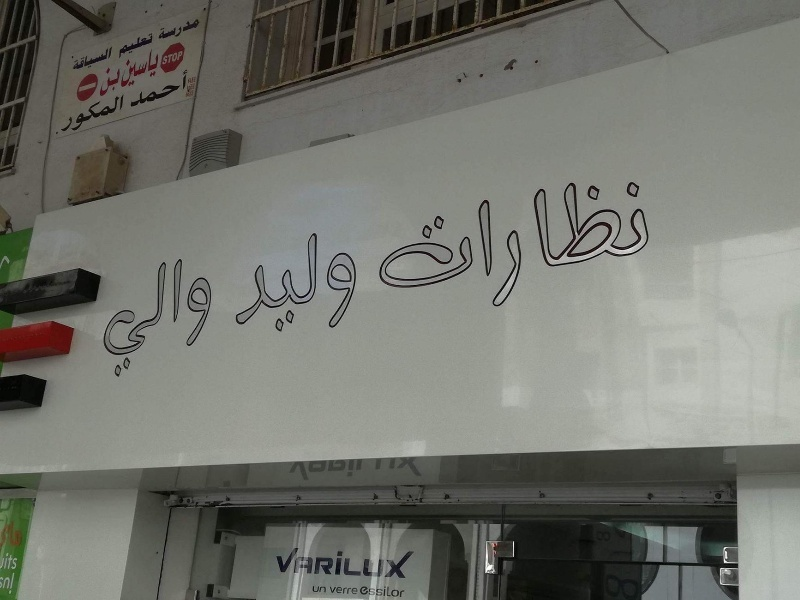text: (385, 174, 400, 323), (401, 174, 416, 323), (417, 174, 432, 323), (433, 174, 448, 323), (449, 174, 464, 323), (465, 174, 480, 323), (481, 174, 496, 323), (497, 174, 512, 323), (513, 174, 528, 323), (529, 174, 544, 323), (545, 174, 560, 323), (561, 174, 576, 323), (577, 174, 592, 323), (593, 174, 608, 323), (609, 174, 624, 323), (625, 174, 640, 323), (641, 174, 656, 323), (113, 252, 128, 379), (129, 252, 144, 379), (145, 252, 160, 379), (161, 252, 176, 379), (177, 252, 192, 379), (193, 252, 208, 379), (257, 228, 272, 339), (273, 228, 288, 339), (289, 228, 304, 339), (305, 228, 320, 339), (321, 228, 336, 339), (337, 228, 352, 339), (374, 174, 384, 323), (102, 252, 112, 379), (249, 228, 256, 339), (353, 228, 360, 339), (113, 47, 128, 98), (129, 47, 144, 98), (657, 174, 662, 323), (145, 47, 159, 98), (65, 92, 80, 136), (81, 92, 96, 136), (97, 92, 112, 136), (209, 252, 214, 379), (129, 68, 144, 109), (145, 68, 160, 109), (161, 68, 176, 109), (177, 68, 190, 109), (113, 92, 125, 136), (102, 47, 112, 98), (289, 547, 304, 579), (305, 547, 320, 579), (321, 547, 336, 579), (337, 547, 352, 579), (353, 547, 368, 579), (369, 547, 384, 579), (385, 547, 400, 579), (401, 547, 415, 579), (289, 455, 304, 483), (305, 455, 320, 483), (321, 455, 336, 483), (337, 455, 352, 483), (353, 455, 368, 483), (369, 455, 384, 483), (385, 455, 400, 483), (401, 455, 416, 483), (97, 47, 113, 72), (129, 33, 144, 59), (276, 547, 288, 579), (2, 520, 16, 547), (161, 17, 176, 42), (177, 17, 192, 42), (81, 47, 96, 72), (1, 573, 16, 596), (417, 455, 427, 483), (1, 553, 16, 571), (145, 33, 154, 59), (120, 33, 128, 59), (163, 50, 176, 66), (369, 585, 384, 598), (385, 585, 400, 598), (60, 92, 64, 136), (193, 17, 200, 42), (73, 47, 80, 72), (17, 520, 23, 547), (337, 587, 352, 595), (177, 50, 184, 66), (360, 585, 368, 598), (401, 585, 406, 598), (312, 586, 320, 594), (158, 17, 160, 42), (321, 586, 327, 594), (330, 587, 336, 595), (353, 587, 358, 595), (17, 553, 19, 571), (287, 455, 288, 483)
